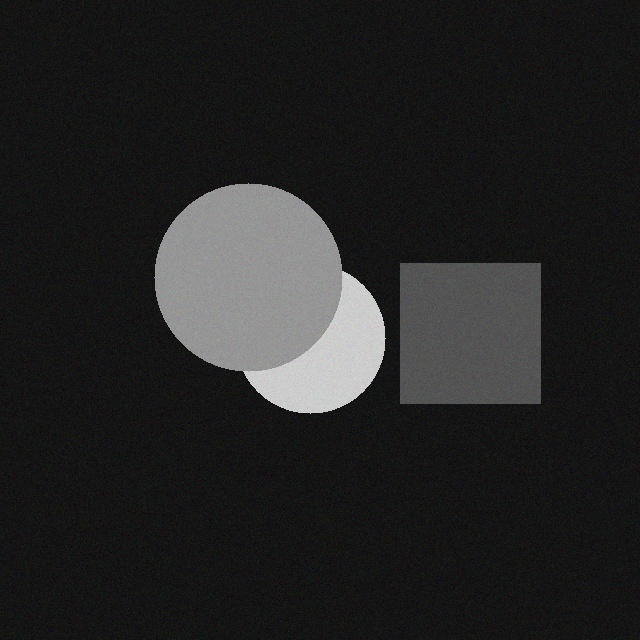circle: (164, 198, 352, 386), (245, 278, 395, 428)
square: (410, 278, 550, 418)
